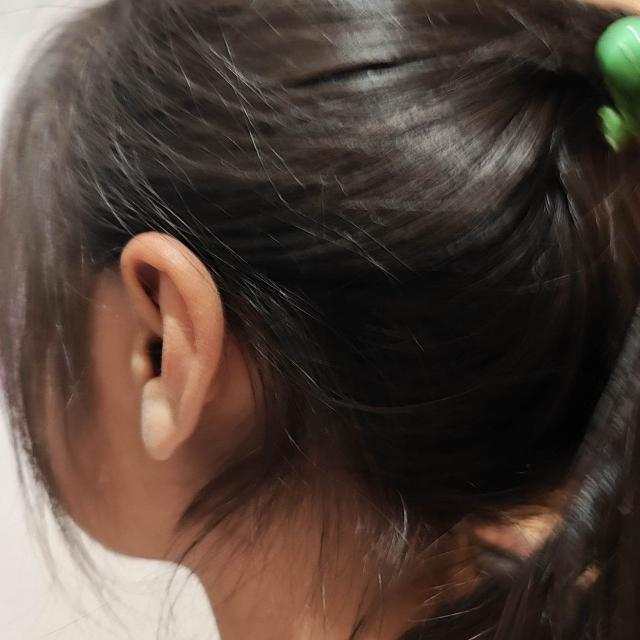ear: (119, 232, 225, 460)
